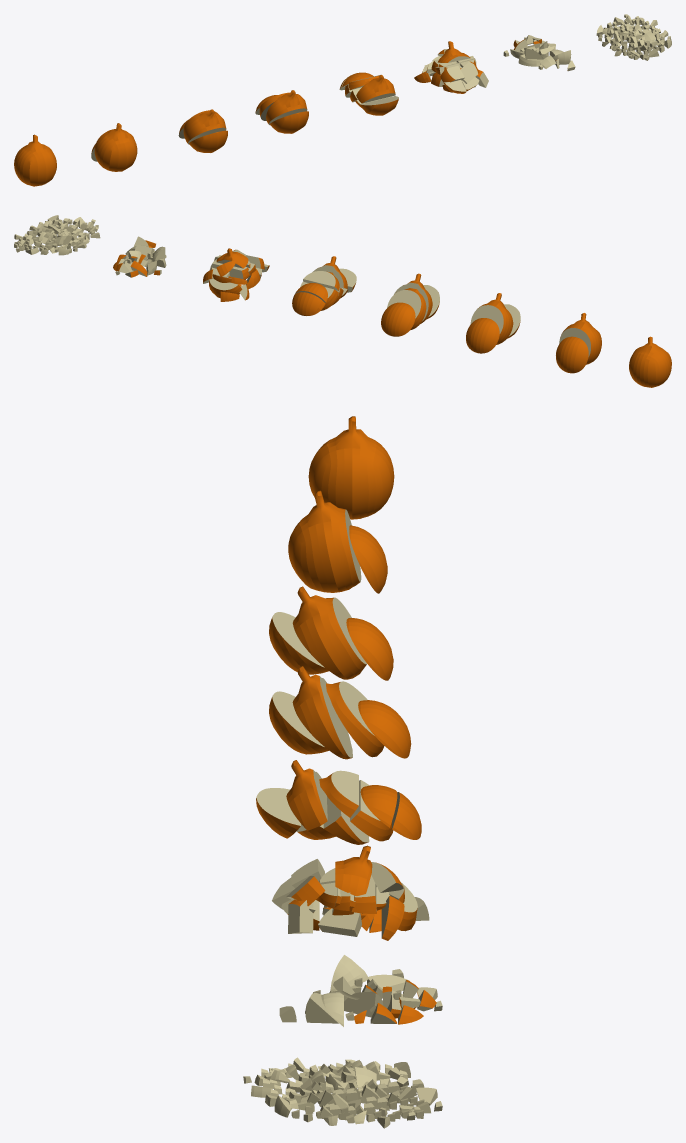
The model's file is onion.fbx.
3 renders of one model, top to bottom at view 1: azimuth 30°, elevation 25°; view 2: azimuth 150°, elevation 25°; view 3: azimuth 270°, elevation 25°, orthographic. The views are drawn at different scales.
Visible parts, largest first — view 1: Cube.007, Cube.005, Cube.004, Cube.003, Cube.001, Cube, Cube.002, Cube.006; view 2: Cube.007, Cube.005, Cube.003, Cube.004, Cube.002, Cube.001, Cube, Cube.006; view 3: Cube.005, Cube.007, Cube.004, Cube.003, Cube.002, Cube.001, Cube.006, Cube.
Boxes of the visible parts, x1,y1,x2,y2 form: Cube.007: (596,14,671,60); Cube.005: (414,41,488,93); Cube.004: (339,72,398,115); Cube.003: (255,90,308,133); Cube.001: (91,123,137,171); Cube: (14,134,56,186); Cube.002: (178,109,227,152); Cube.006: (503,35,575,71); Cube.007: (14,215,100,255); Cube.005: (203,248,269,301); Cube.003: (381,273,439,336); Cube.004: (292,256,356,315); Cube.002: (466,293,520,353); Cube.001: (556,313,601,373); Cube: (629,336,671,387); Cube.006: (113,236,166,277); Cube.005: (272,845,429,940); Cube.007: (243,1057,442,1128); Cube.004: (256,760,421,844); Cube.003: (269,666,411,759); Cube.002: (269,586,393,680); Cube.001: (288,490,387,593); Cube.006: (279,955,442,1026); Cube: (308,416,394,519).
Size of the model in its own units: 164 by 12.59 by 21.86.
